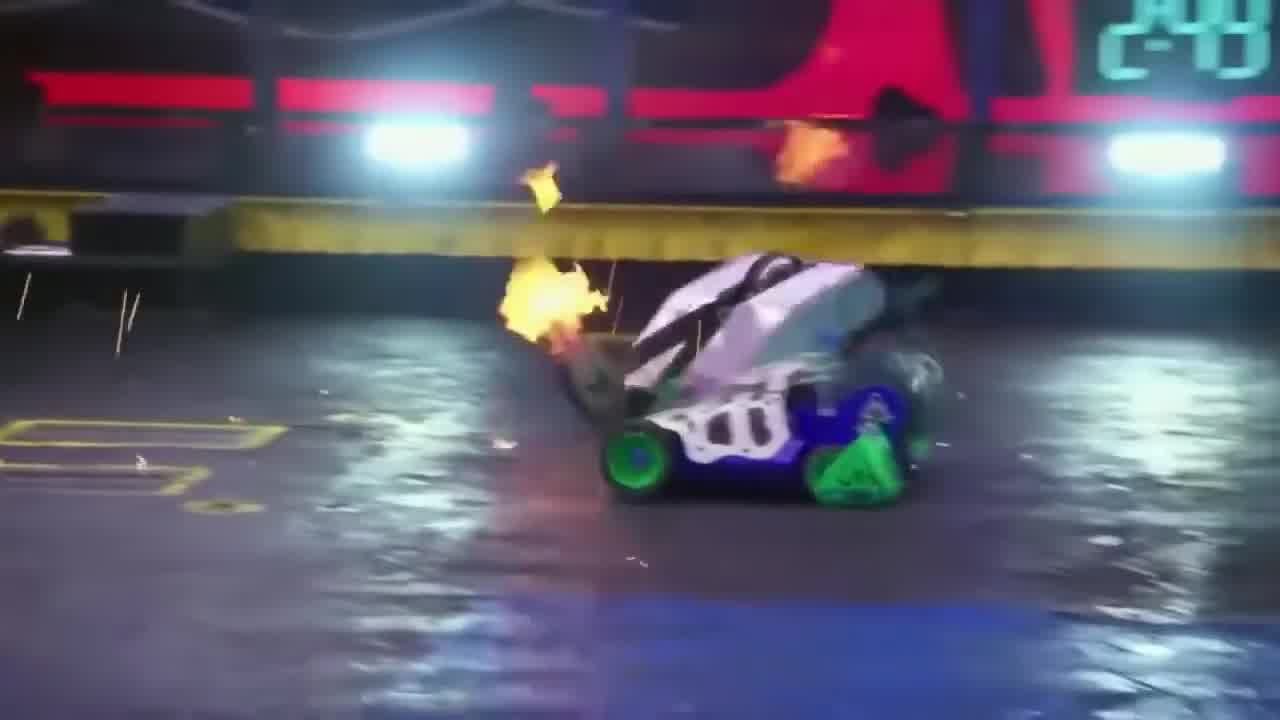combatbot: (548, 252, 885, 424), (599, 350, 945, 507)
